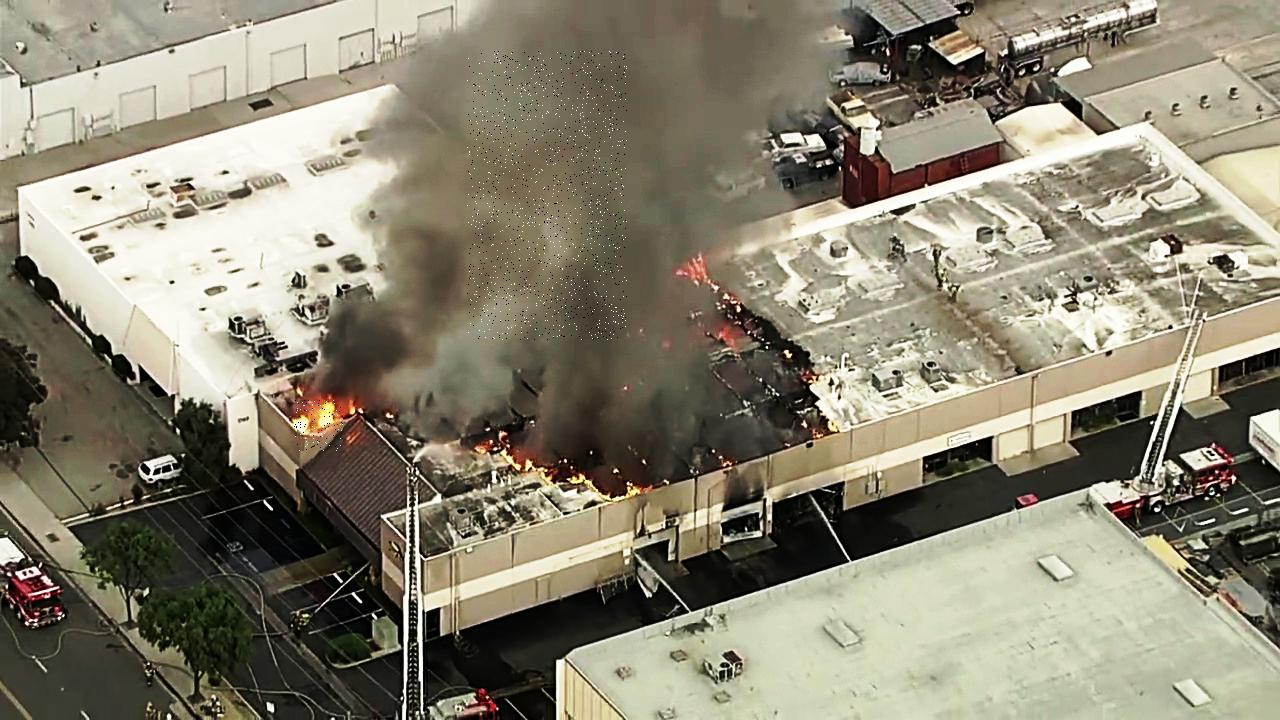fire: (294, 400, 343, 451)
smoke: (467, 51, 627, 340)
